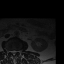CCS_normal: (13, 48, 14, 58)
LFS_severe_stenosis: (16, 49, 18, 53)
LLS_normal: (14, 49, 16, 54)
RFS_stenosis: (9, 49, 10, 53)
RLS_normal: (10, 49, 13, 54)
